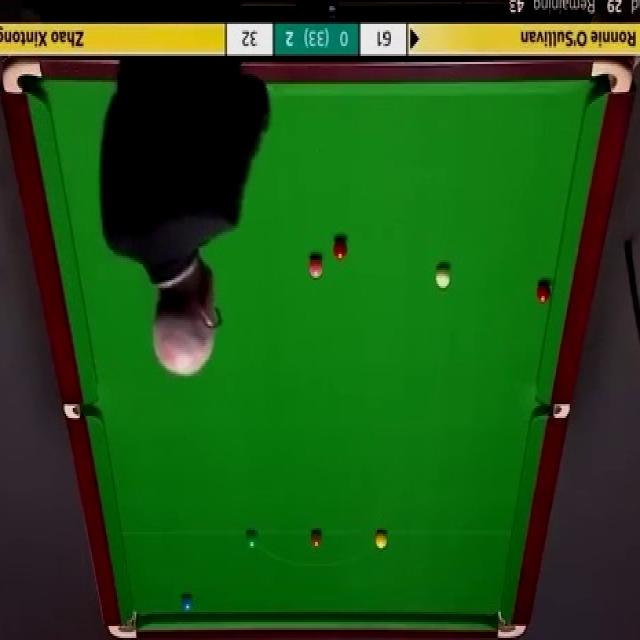blue-ball: (180, 594, 194, 613)
brown-ball: (310, 531, 323, 548)
green-ball: (244, 528, 258, 552)
pink-ball: (310, 255, 324, 279)
red-ball: (535, 282, 551, 305), (333, 239, 348, 262)
white-ball: (436, 265, 451, 289)
yellow-ball: (374, 530, 388, 551)
